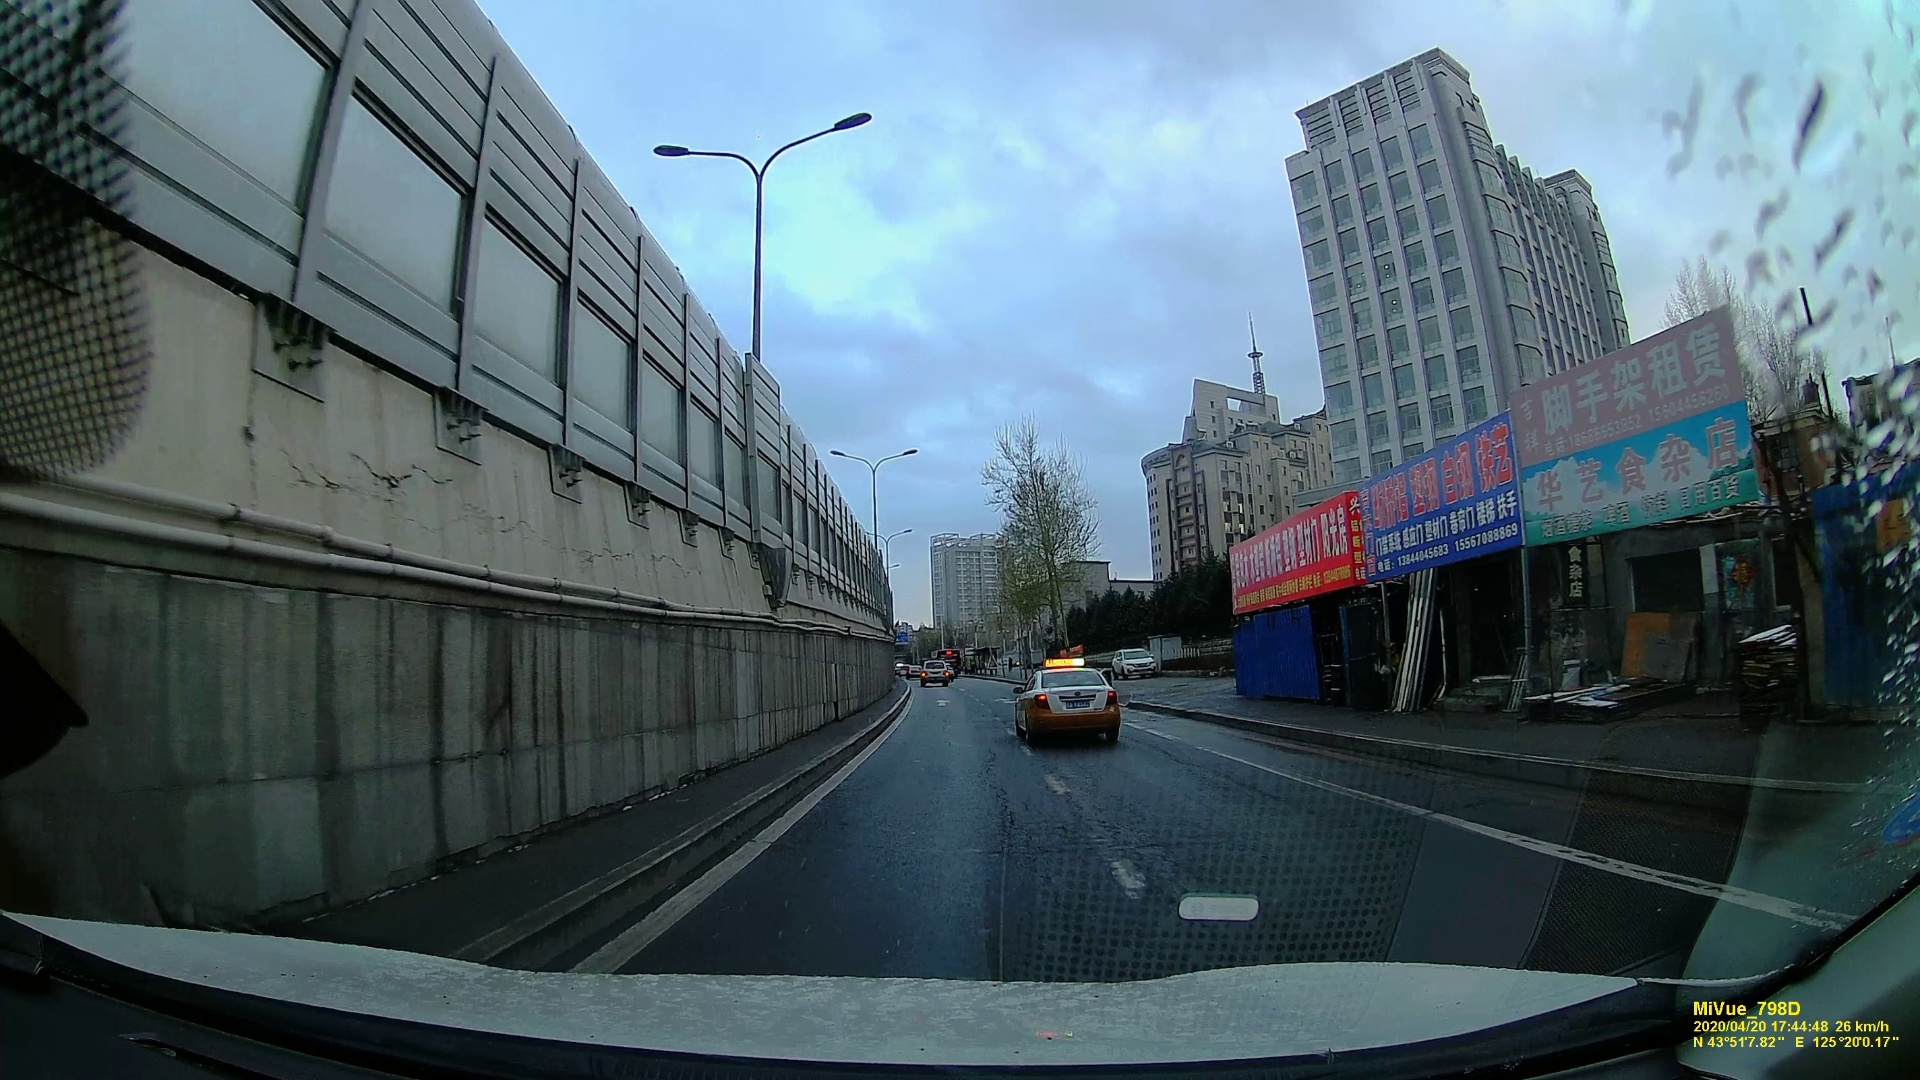vehicle: (1009, 665, 1125, 746), (1112, 647, 1156, 678), (918, 661, 949, 688)
